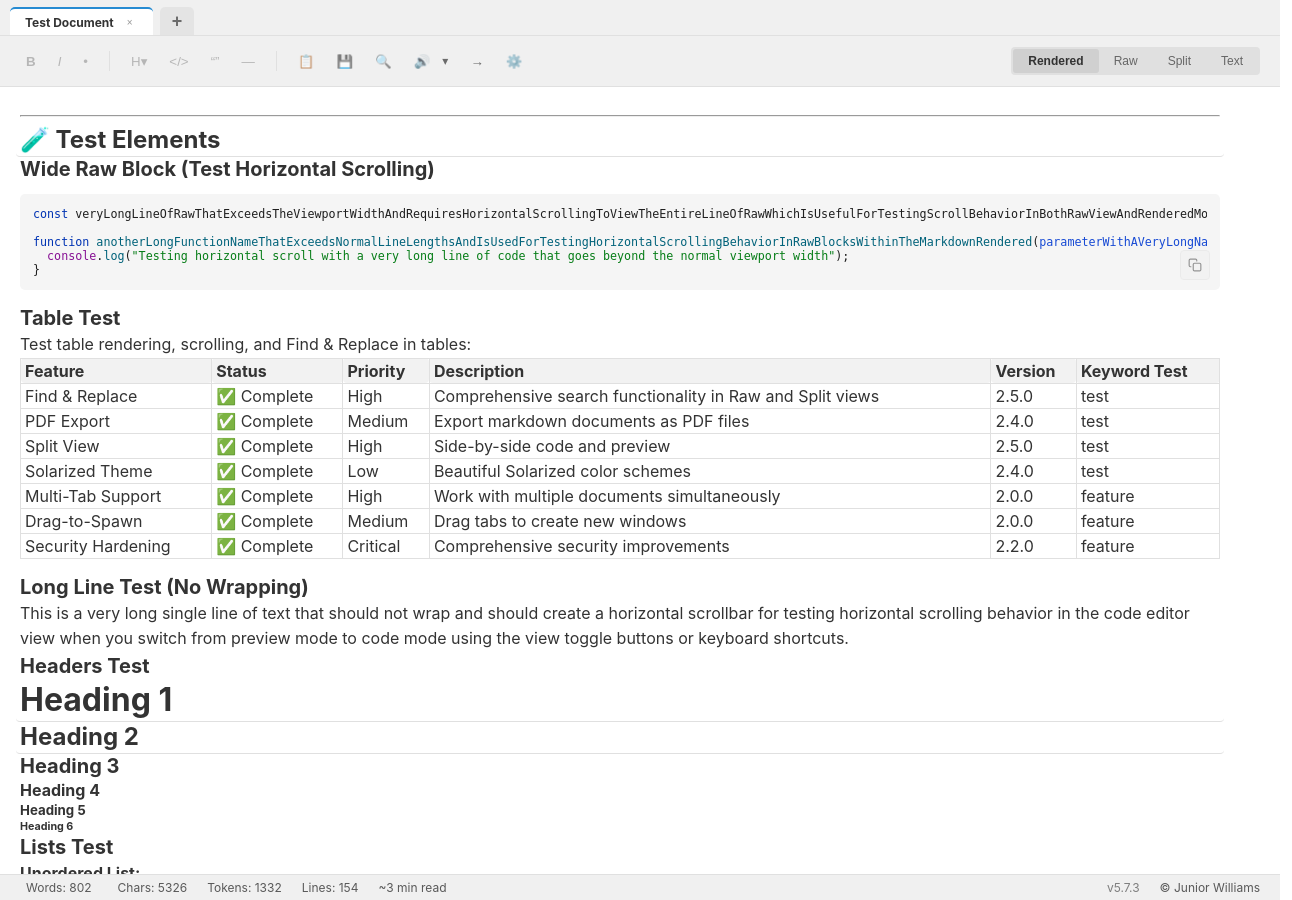
Test: App Integration Tests › Word Count Goal › should set a goal and display it
Step 1. Click the button with aria-label "Word count" → (59, 888), box [20,878,98,897]
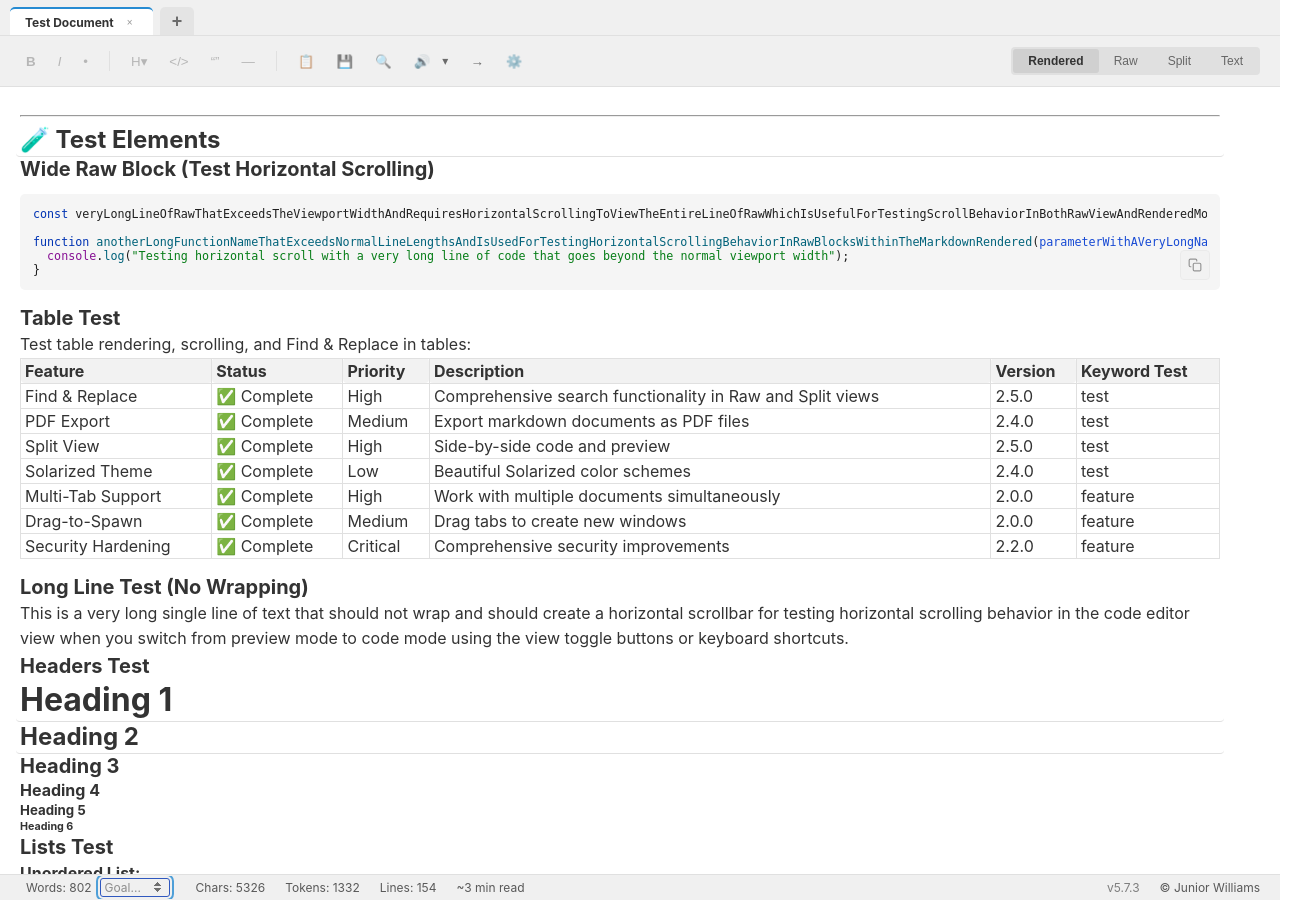
Step 2. Type "500" into the number field named "Set word count goal" → (135, 888), box [100,878,170,897]
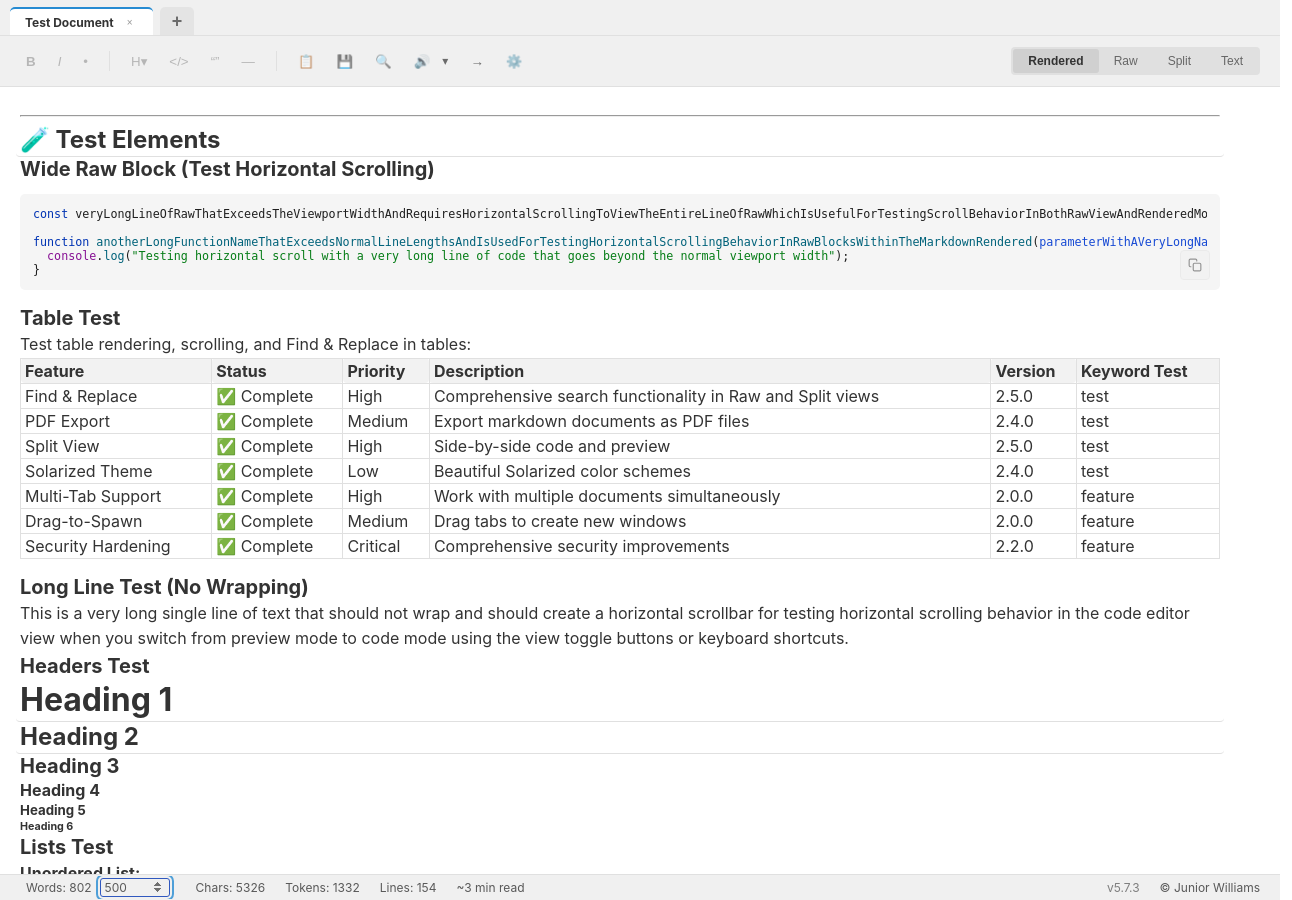
Step 3. Press Enter
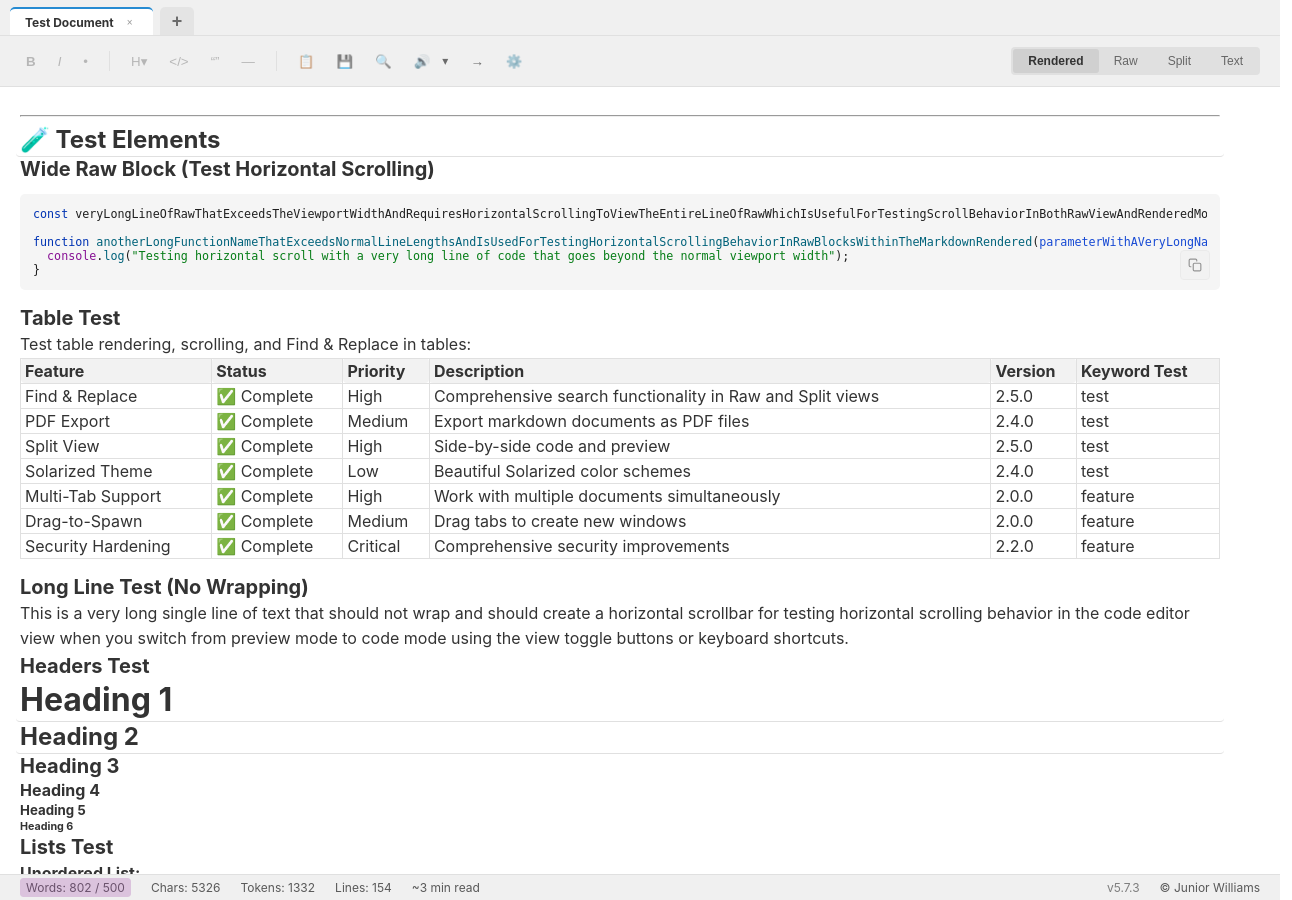
Expected: the button with aria-label "goal" shows "/ 500", [20,878,131,897]
